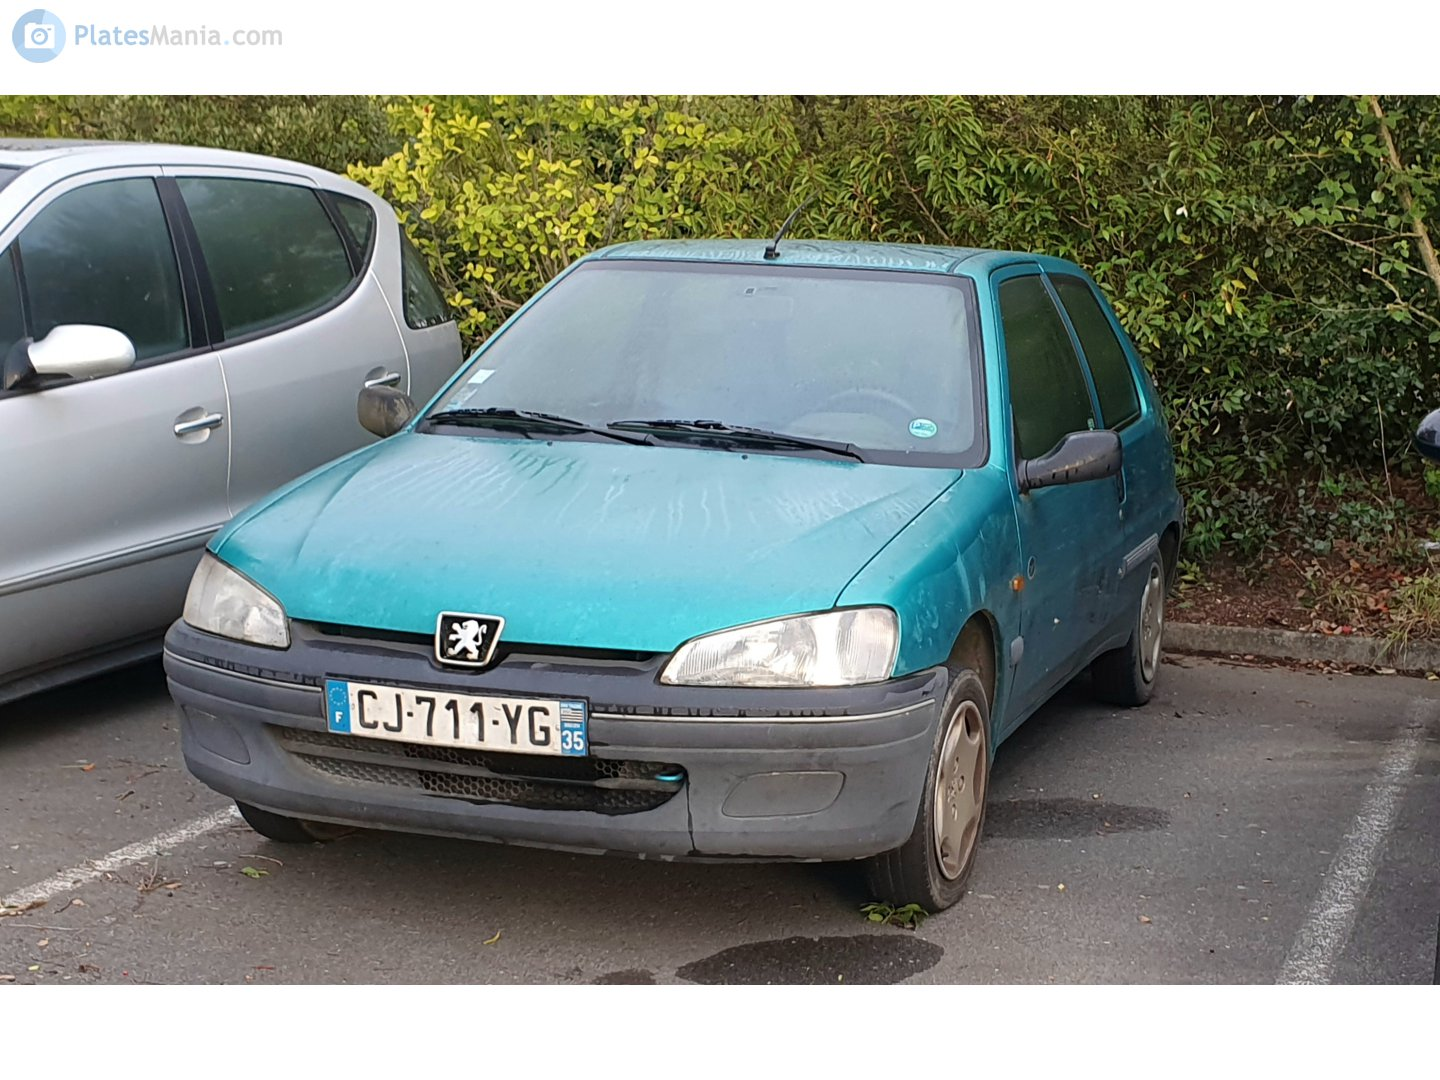licence plate: (315, 673, 592, 763)
